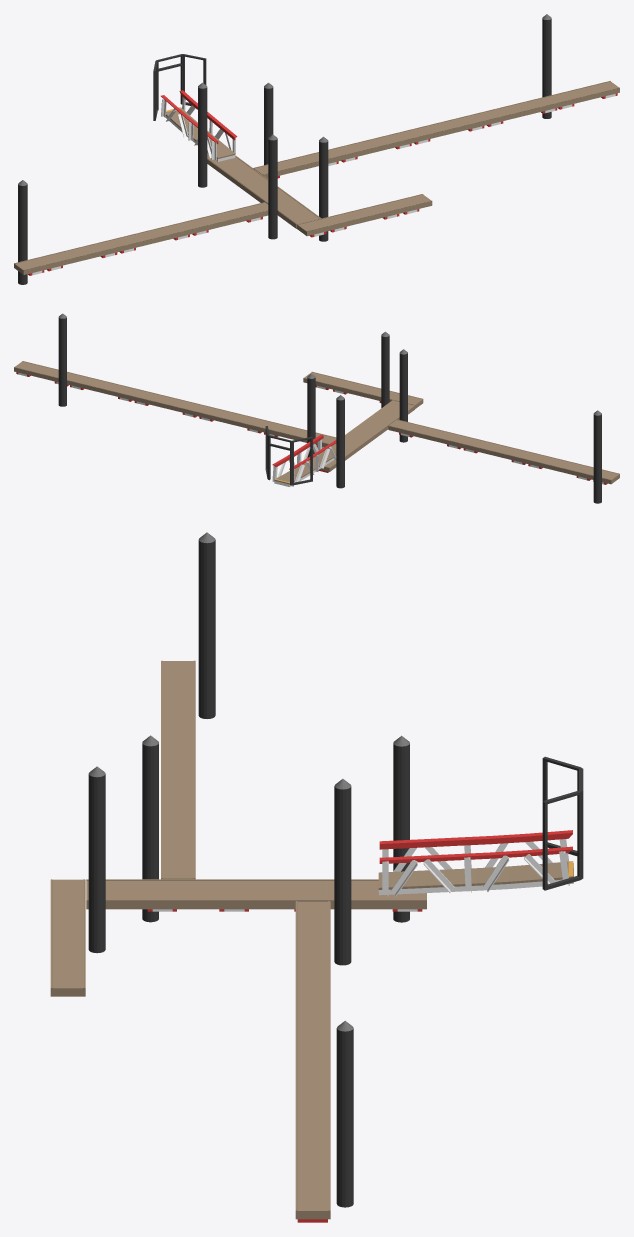
The model's file is pier2.glb.
The picture shows the model from 3 angles, top to bottom: view 1: azimuth 30°, elevation 25°; view 2: azimuth 150°, elevation 25°; view 3: azimuth 270°, elevation 25°; orthographic projection. The views are drawn at different scales.
Visible parts, largest first — view 1: Cube.067, Cube.004, Cube.001, Cube.002, Cylinder, Cylinder.003, Cylinder.006, Cylinder.002, Plane, Cylinder.005, Cube.085, Cylinder.007; view 2: Cube.067, Cube.004, Cube.001, Cube.002, Cylinder.006, Cylinder, Plane, Cylinder.005, Cylinder.003, Cylinder.002, Cylinder.007, Cube.085; view 3: Cube.067, Cube.001, Cube.004, Cube.002, Cube.085, Cylinder.005, Cylinder.007, Cylinder.002, Cylinder.006, Cylinder.003, Plane, Cylinder (+2 smaller).
Part boxes in pixels (<box>): Cube.067: <box>253,81,619,178</box>; Cube.004: <box>14,202,268,274</box>; Cube.001: <box>207,153,321,228</box>; Cube.002: <box>297,194,432,236</box>; Cylinder: <box>198,82,207,187</box>; Cylinder.003: <box>268,134,277,239</box>; Cylinder.006: <box>18,180,27,284</box>; Cylinder.002: <box>319,136,328,241</box>; Plane: <box>153,54,206,120</box>; Cylinder.005: <box>542,14,551,118</box>; Cube.085: <box>165,107,235,161</box>; Cylinder.007: <box>264,82,273,165</box>; Cube.067: <box>14,361,336,447</box>; Cube.004: <box>388,419,619,484</box>; Cube.001: <box>319,400,414,471</box>; Cube.002: <box>303,371,423,408</box>; Cylinder.006: <box>593,410,601,503</box>; Cylinder: <box>336,395,344,488</box>; Plane: <box>265,426,312,485</box>; Cylinder.005: <box>58,313,66,406</box>; Cylinder.003: <box>399,349,407,442</box>; Cylinder.002: <box>381,331,389,407</box>; Cylinder.007: <box>307,373,315,457</box>; Cube.085: <box>274,450,336,486</box>; Cube.067: <box>295,901,330,1219</box>; Cube.001: <box>86,879,426,909</box>; Cube.004: <box>161,660,195,879</box>; Cube.002: <box>50,879,85,996</box>; Cube.085: <box>378,861,573,895</box>; Cylinder.005: <box>336,1020,353,1207</box>; Cylinder.007: <box>334,779,351,965</box>; Cylinder.002: <box>88,766,105,953</box>; Cylinder.006: <box>198,532,215,718</box>; Cylinder.003: <box>142,735,158,922</box>; Plane: <box>542,756,583,890</box>; Cylinder: <box>393,735,409,922</box>.
Size of the model in its own units: 74.73 by 11.61 by 30.58.
1 material, 1 textured.
